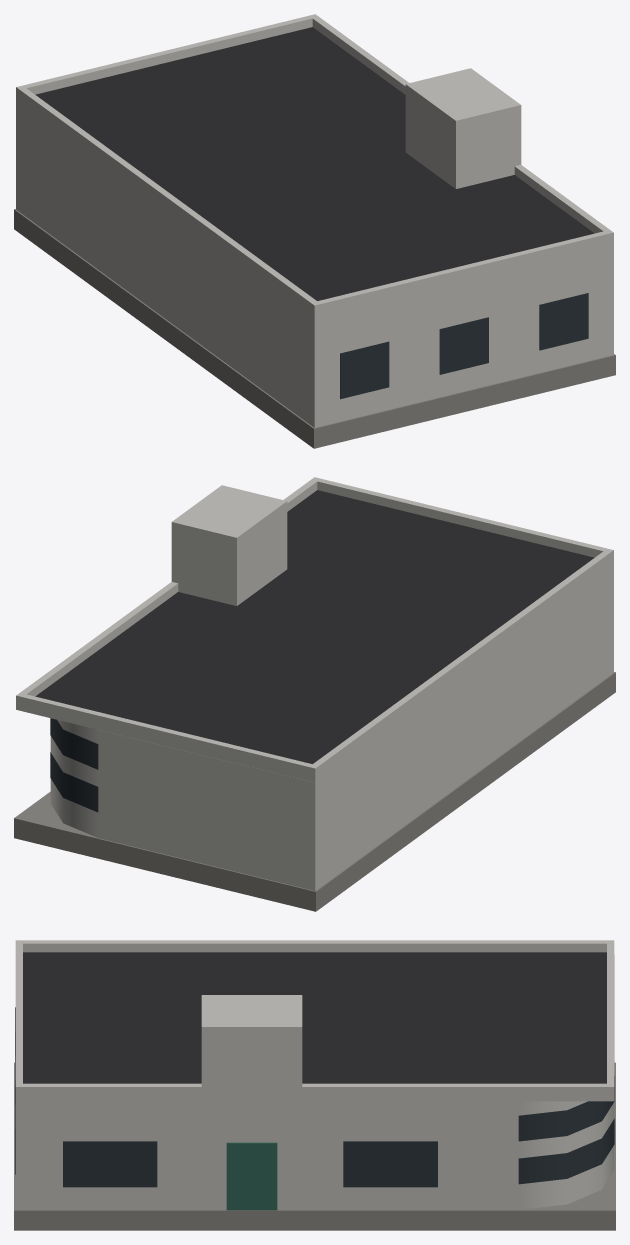
The model's file is SM_Prop_cafe_building_19_LOD2.glb.
The picture shows the model from 3 angles, top to bottom: view 1: azimuth 30°, elevation 25°; view 2: azimuth 150°, elevation 25°; view 3: azimuth 270°, elevation 25°; orthographic projection.
Parts seen in each view (by area): view 1: SM_Prop_cafe_building_19_LOD2; view 2: SM_Prop_cafe_building_19_LOD2; view 3: SM_Prop_cafe_building_19_LOD2.
Part boxes in pixels (x1,y1,x2,y2): SM_Prop_cafe_building_19_LOD2: (14, 14, 615, 448); SM_Prop_cafe_building_19_LOD2: (14, 477, 615, 911); SM_Prop_cafe_building_19_LOD2: (14, 940, 615, 1230).
Bounding box in the file's own units: 11.1 × 7.1 × 19.1.
